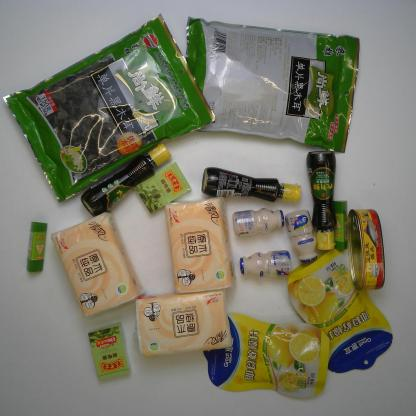Candy: (130, 158, 194, 218), (84, 317, 135, 384)
Canned Food: (346, 206, 389, 298)
Dried Food: (0, 9, 219, 205), (181, 13, 361, 156)
Dried Fruit: (284, 246, 395, 375), (200, 304, 332, 402)
Milk: (282, 206, 320, 268), (237, 246, 295, 283), (229, 205, 287, 238)
Seasoner: (76, 140, 174, 218), (197, 160, 305, 208), (302, 147, 340, 253)
Stationery: (21, 218, 50, 274), (328, 195, 350, 254)
Tissue: (48, 207, 148, 323), (160, 193, 239, 297), (130, 287, 235, 359)
